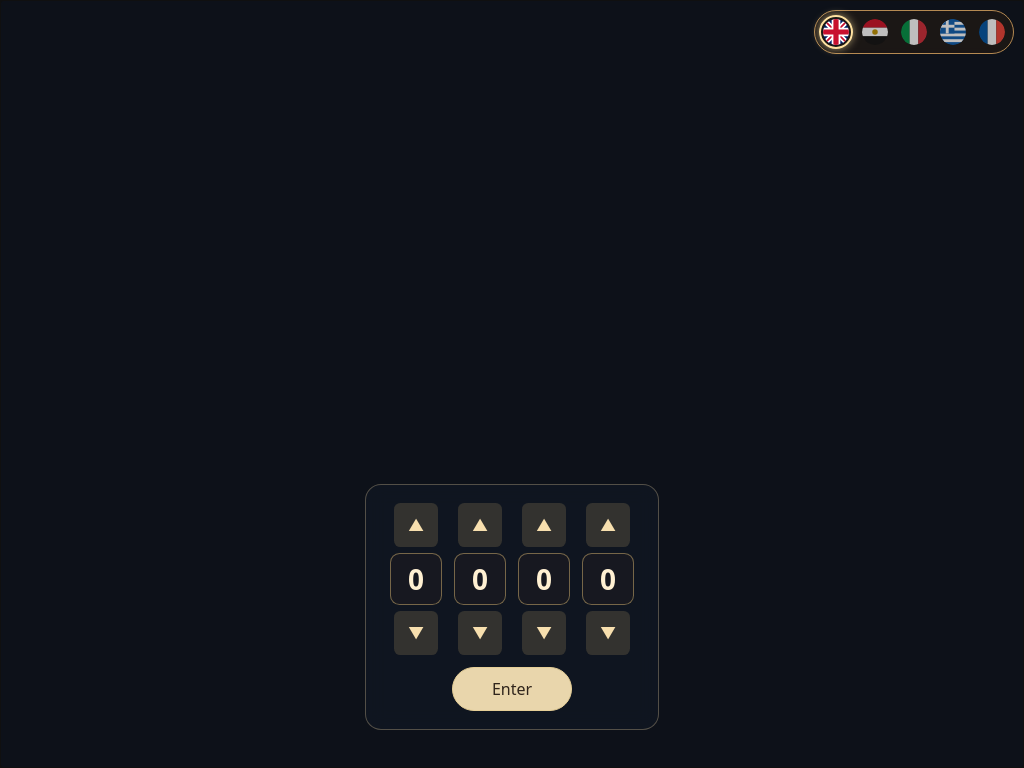
Test: GatePage — unauthenticated › shows generic invalid feedback on a wrong code without leaking the correct one
The width and height of the screenshot is (1024, 768).
Click the button "Enter" at {"x": 512, "y": 689}, box [452, 667, 572, 711]
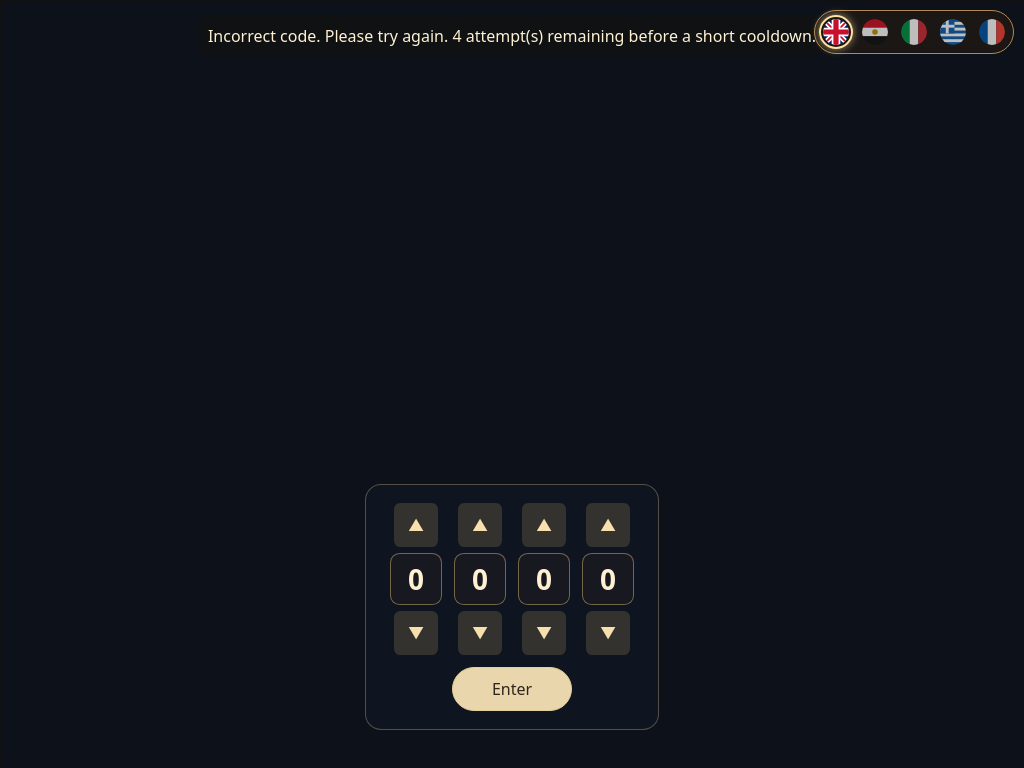
Result: the text "Incorrect code" is shown at [208, 25, 448, 47]
Result: the text "4 attempt(s) remaining" is shown at [452, 25, 816, 47]
